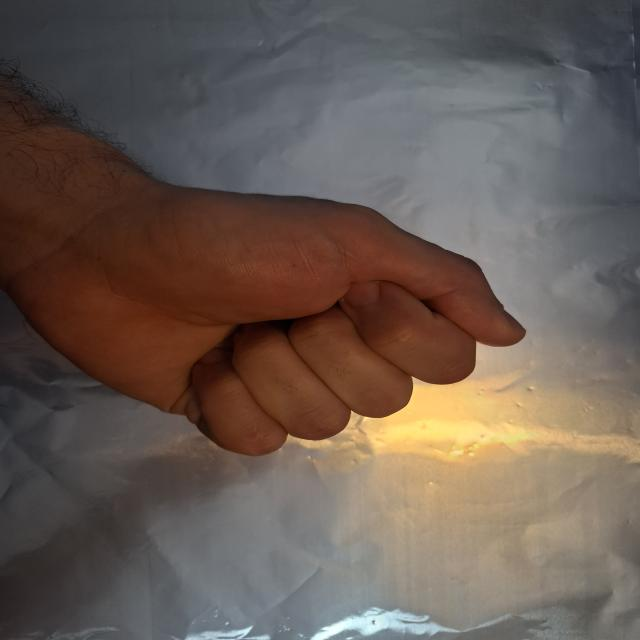glove_off: (4, 158, 528, 459)
